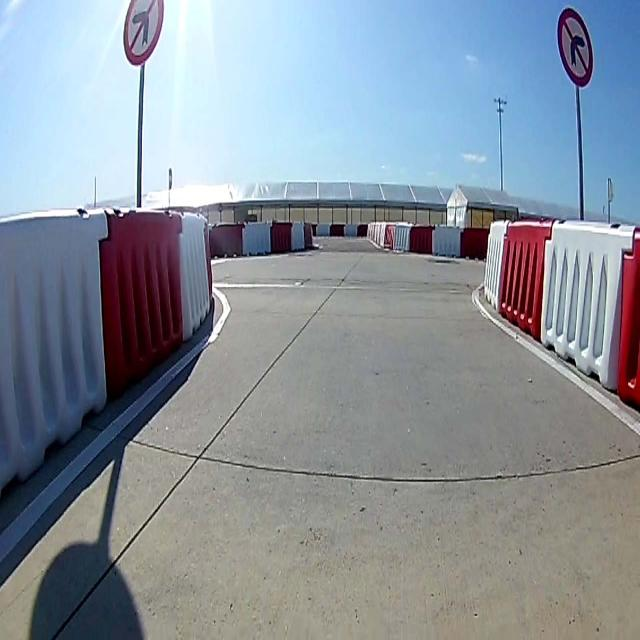sagadonulmez: (556, 9, 596, 87)
soladonulmez: (123, 1, 165, 67)
